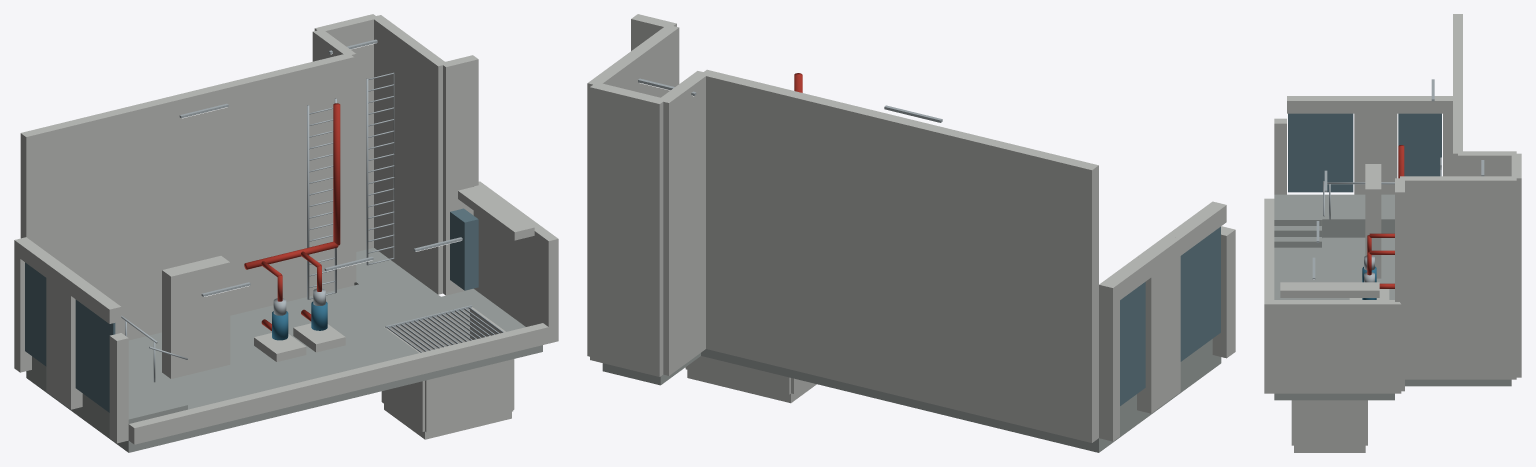
File: B04-pump-room.glb
3 views of the same model, side by side, from view 1: azimuth 30°, elevation 25°; view 2: azimuth 150°, elevation 25°; view 3: azimuth 270°, elevation 25° (orthographic). The views are drawn at different scales.
Visible parts, largest first — view 1: SOURCE | reservoir partition, SOURCE | reservoir partition.003, SOURCE | pump structure (front cutaway), SOURCE | pump structure.003, SOURCE | pump structure, SOURCE | reservoir partition.004, SOURCE | pump floor with open pit.013, SOURCE | pit wall.003, SOURCE | reservoir partition.002, SOURCE | pump structure.001, SOURCE | pump floor with open pit.010, SOURCE | raised entry platform (+25 smaller); view 2: SOURCE | reservoir partition, SOURCE | reservoir partition.002, SOURCE | reservoir partition.001, SOURCE | pump structure.001, SOURCE | reservoir partition.003, PROPOSED | entry door, SOURCE | pump structure.002, SOURCE | pump floor with open pit.010, PROPOSED | entry door.001, SOURCE | raised entry platform, SOURCE | west room enclosure, SOURCE | pit wall.001 (+5 smaller); view 3: SOURCE | reservoir partition.003, SOURCE | pump structure.003, PROPOSED | entry door, SOURCE | raised entry platform, SOURCE | pump structure.001, SOURCE | pit wall, PROPOSED | entry door.001, SOURCE | pump floor with open pit.009, SOURCE SECTION HEIGHT | low ceiling cutaway patch, SOURCE | reservoir partition.004, SOURCE | pump structure, SOURCE | reservoir partition (+15 smaller).
Boxes of the visible parts, bbox=[...] form: SOURCE | reservoir partition: bbox=[20, 53, 354, 340]; SOURCE | reservoir partition.003: bbox=[374, 15, 447, 294]; SOURCE | pump structure (front cutaway): bbox=[128, 323, 548, 444]; SOURCE | pump structure.003: bbox=[473, 181, 558, 343]; SOURCE | pump structure: bbox=[162, 256, 230, 378]; SOURCE | reservoir partition.004: bbox=[443, 55, 478, 295]; SOURCE | pump floor with open pit.013: bbox=[187, 327, 418, 400]; SOURCE | pit wall.003: bbox=[425, 359, 513, 432]; SOURCE | reservoir partition.002: bbox=[314, 14, 378, 251]; SOURCE | pump structure.001: bbox=[46, 260, 82, 409]; SOURCE | pump floor with open pit.010: bbox=[128, 284, 383, 347]; SOURCE | raised entry platform: bbox=[26, 356, 187, 452]; SOURCE | reservoir partition: bbox=[701, 69, 1098, 442]; SOURCE | reservoir partition.002: bbox=[590, 82, 664, 376]; SOURCE | reservoir partition.001: bbox=[657, 71, 707, 375]; SOURCE | pump structure.001: bbox=[1137, 235, 1180, 413]; SOURCE | reservoir partition.003: bbox=[587, 25, 679, 356]; PROPOSED | entry door: bbox=[1180, 226, 1220, 361]; SOURCE | pump structure.002: bbox=[1099, 280, 1119, 441]; SOURCE | pump floor with open pit.010: bbox=[701, 349, 1029, 435]; PROPOSED | entry door.001: bbox=[1120, 282, 1145, 405]; SOURCE | raised entry platform: bbox=[1030, 339, 1221, 452]; SOURCE | west room enclosure: bbox=[1212, 226, 1235, 358]; SOURCE | pit wall.001: bbox=[685, 356, 790, 394]; SOURCE | reservoir partition.003: bbox=[1400, 176, 1516, 379]; SOURCE | pump structure.003: bbox=[1264, 300, 1401, 393]; PROPOSED | entry door: bbox=[1288, 113, 1353, 192]; SOURCE | raised entry platform: bbox=[1274, 194, 1394, 237]; SOURCE | pump structure.001: bbox=[1354, 96, 1397, 194]; SOURCE | pit wall: bbox=[1294, 400, 1365, 446]; PROPOSED | entry door.001: bbox=[1398, 113, 1441, 176]; SOURCE | pump floor with open pit.009: bbox=[1322, 238, 1394, 299]; SOURCE SECTION HEIGHT | low ceiling cutaway patch: bbox=[1280, 282, 1379, 297]; SOURCE | reservoir partition.004: bbox=[1395, 178, 1404, 391]; SOURCE | pump structure: bbox=[1365, 164, 1381, 278]; SOURCE | reservoir partition: bbox=[1453, 14, 1462, 176].
Bounding box in the file's own units: 11.05 × 7.53 × 6.48.
